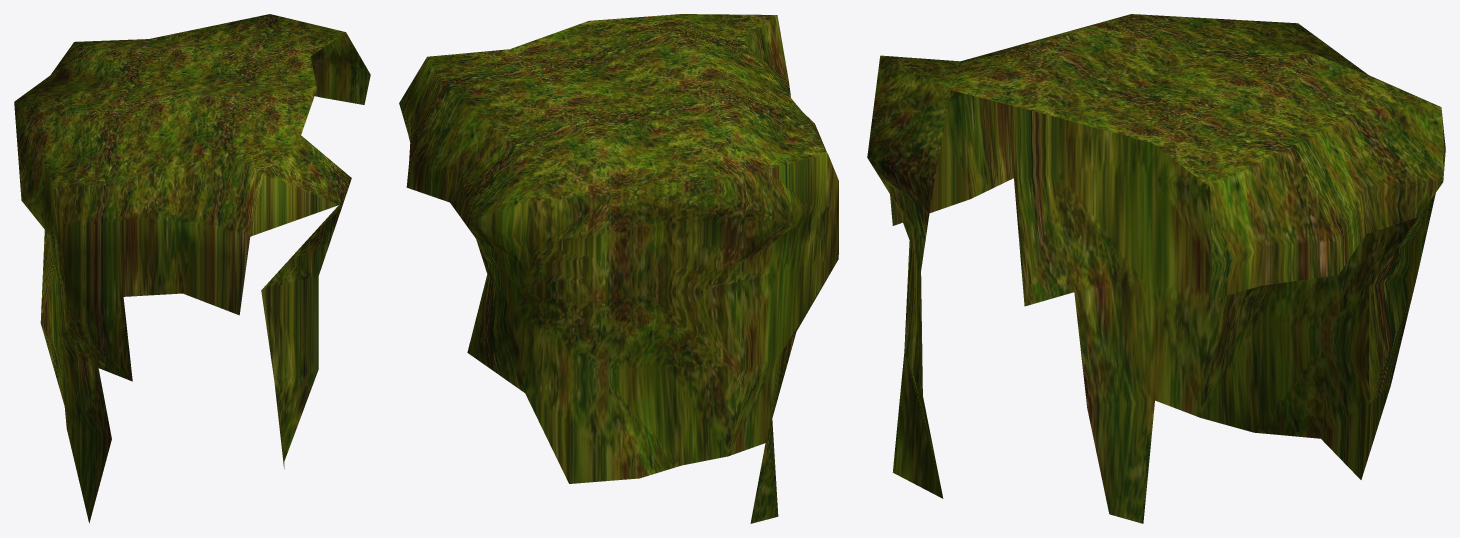
Rendered from TROLLHOLE02_RM_PSURF189.fbx.
3 views of the same model, side by side, from view 1: azimuth 30°, elevation 25°; view 2: azimuth 150°, elevation 25°; view 3: azimuth 270°, elevation 25° (orthographic). The views are drawn at different scales.
Parts seen in each view (by area): view 1: TROLLHOLE02_RM_PSURF189; view 2: TROLLHOLE02_RM_PSURF189; view 3: TROLLHOLE02_RM_PSURF189.
Boxes of the visible parts, bbox=[...] form: TROLLHOLE02_RM_PSURF189: bbox=[14, 14, 370, 523]; TROLLHOLE02_RM_PSURF189: bbox=[399, 14, 838, 523]; TROLLHOLE02_RM_PSURF189: bbox=[867, 14, 1445, 523].
Bounding box in the file's own units: 74568 × 81443 × 78130.
1 material, 1 textured.
